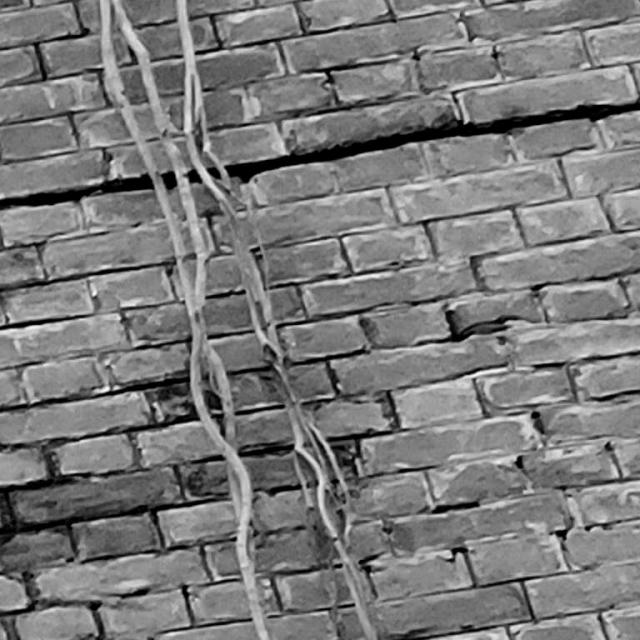crack: (1, 100, 640, 208)
